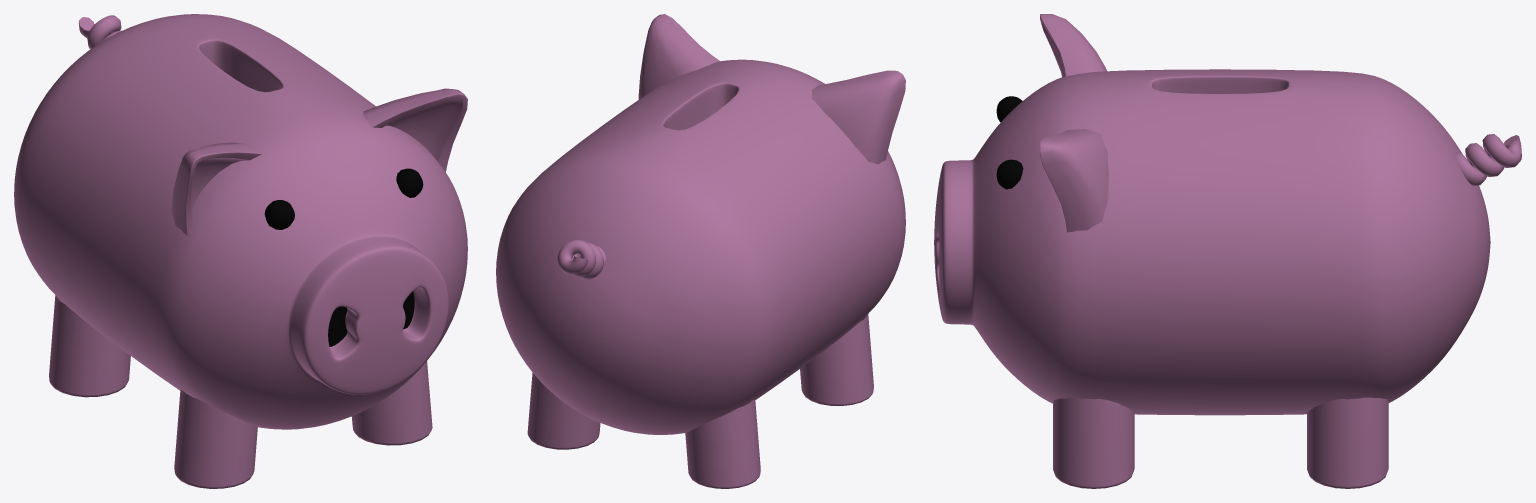
File: piggy_bank.fbx
3 renders of one model, left to right at view 1: azimuth 30°, elevation 25°; view 2: azimuth 150°, elevation 25°; view 3: azimuth 270°, elevation 25°, orthographic. The views are drawn at different scales.
Visible parts, largest first — view 1: piggy_bank; view 2: piggy_bank; view 3: piggy_bank.
Part boxes in pixels (bbox=[...]): piggy_bank: bbox=[14, 14, 467, 488]; piggy_bank: bbox=[496, 14, 905, 488]; piggy_bank: bbox=[934, 14, 1521, 488].
Bounding box in the file's own units: 3.96 × 4.25 × 6.45.
